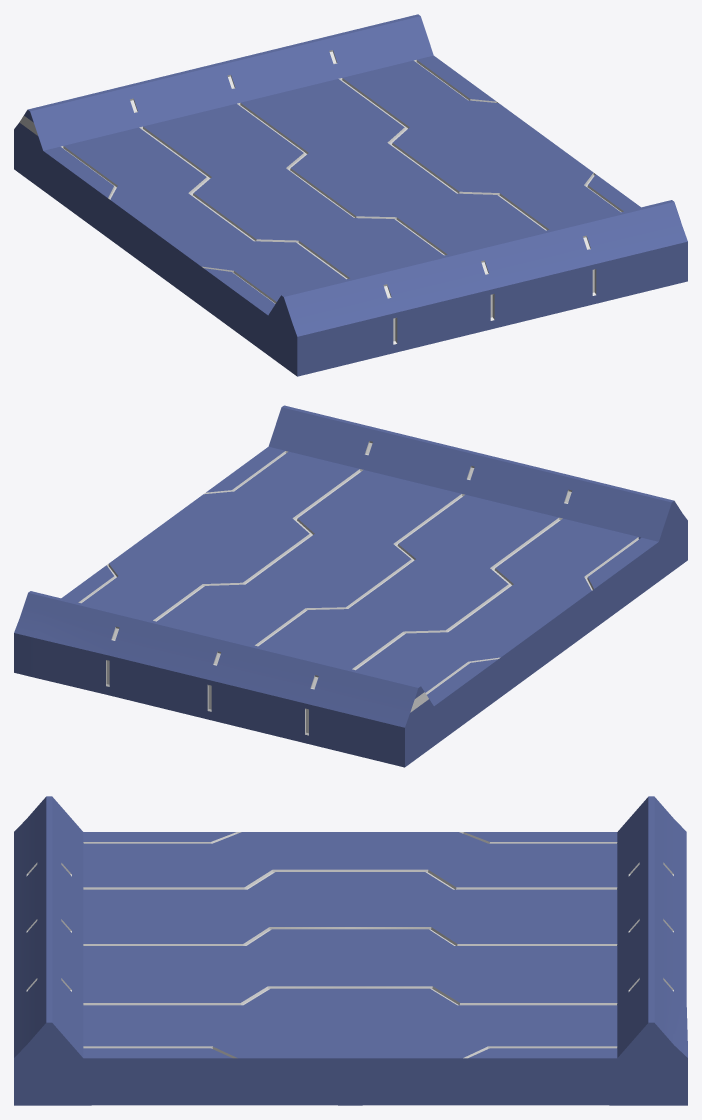
The model's file is staticmesh_Bridge_Track.fbx.
The picture shows the model from 3 angles, top to bottom: view 1: azimuth 30°, elevation 25°; view 2: azimuth 150°, elevation 25°; view 3: azimuth 270°, elevation 25°; orthographic projection. The views are drawn at different scales.
Visible parts, largest first — view 1: geo_Bridge_Track; view 2: geo_Bridge_Track; view 3: geo_Bridge_Track.
Boxes of the visible parts, left/top/right/bottom form: geo_Bridge_Track: left=14, top=14, right=687, bottom=376; geo_Bridge_Track: left=14, top=405, right=687, bottom=767; geo_Bridge_Track: left=14, top=796, right=687, bottom=1105.
Size of what is drawn, in the model's own units: 621 by 106 by 781.
